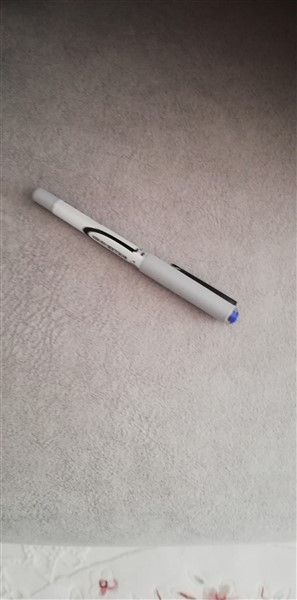pilot kalem: (25, 181, 247, 334)
